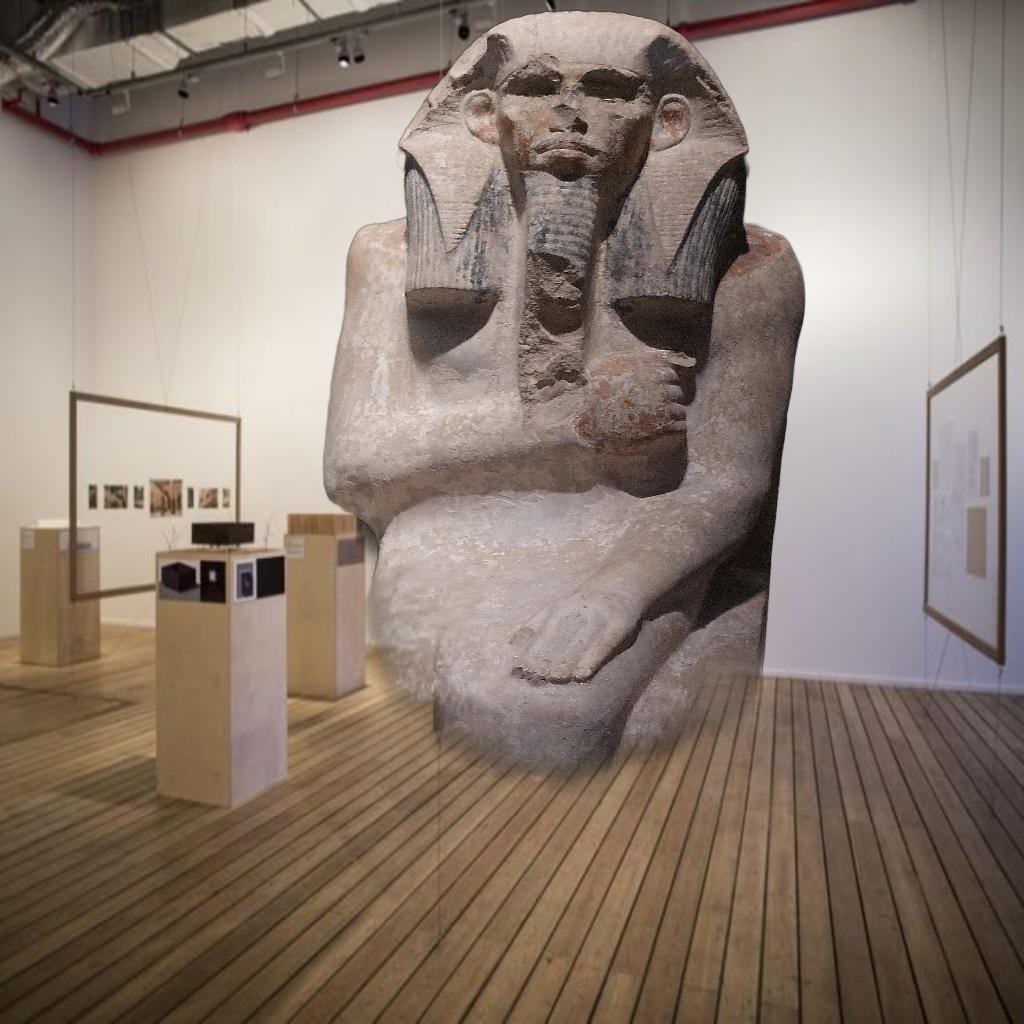Seated Statue of Djoser: (218, 9, 812, 1020)
